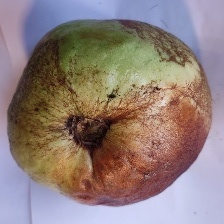guava: (17, 29, 200, 202)
